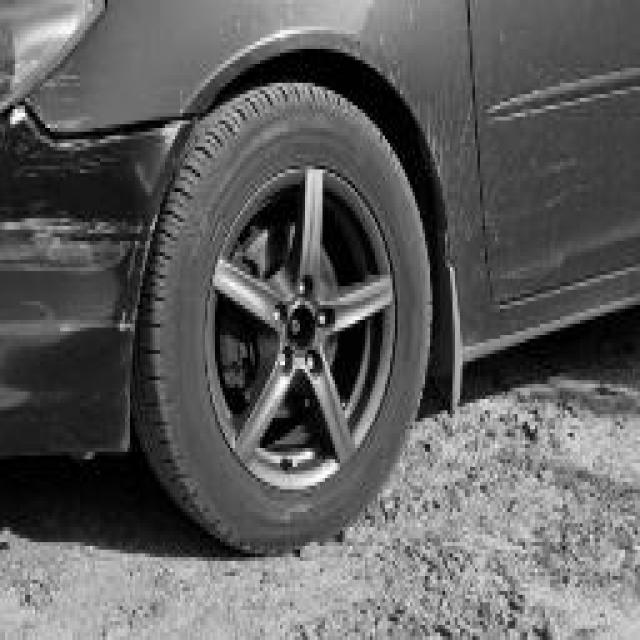Bumper: (2, 117, 155, 474)
